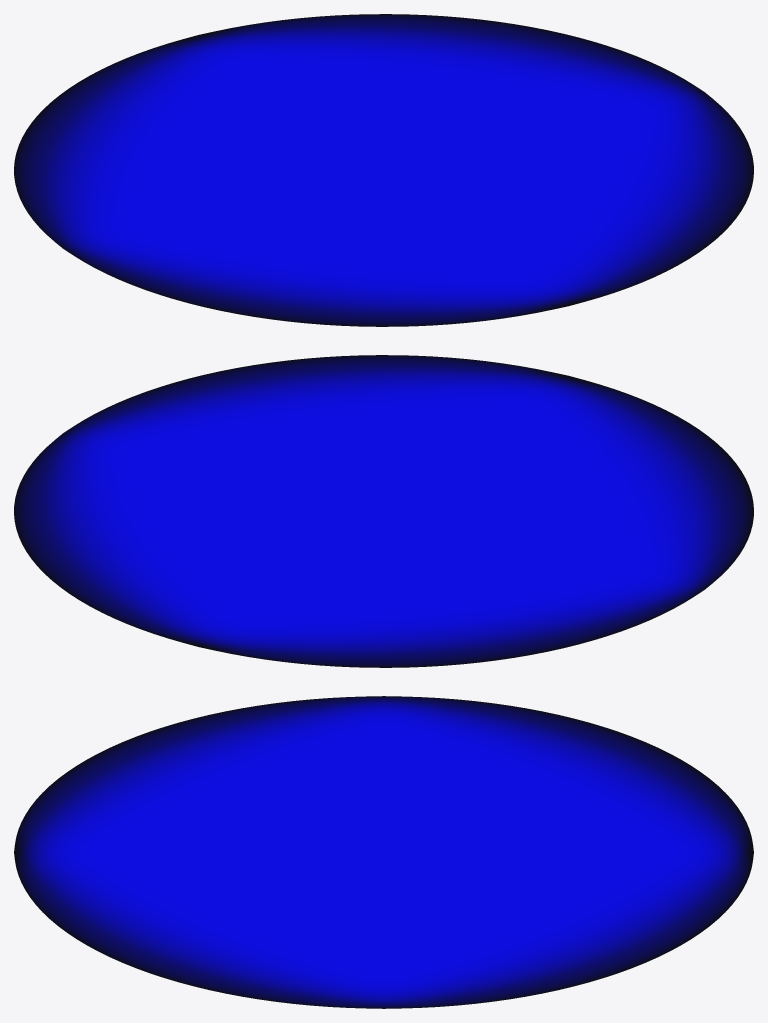
Rendered from ST_PoolPlane.fbx.
3 renders of one model, top to bottom at view 1: azimuth 30°, elevation 25°; view 2: azimuth 150°, elevation 25°; view 3: azimuth 270°, elevation 25°, orthographic.
Parts seen in each view (by area): view 1: ST_PoolPlane; view 2: ST_PoolPlane; view 3: ST_PoolPlane.
Boxes of the visible parts, x1,y1,x2,y2 form: ST_PoolPlane: [14, 14, 753, 326]; ST_PoolPlane: [14, 355, 753, 667]; ST_PoolPlane: [14, 696, 753, 1008].
Size of the model in its own units: 1.99 by 0 by 1.99.
